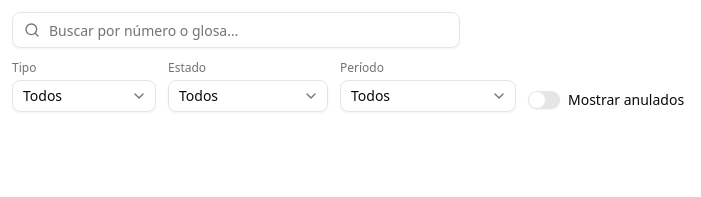
Test: ComprobantesFilters › muestra las opciones de período etiquetadas como "<Mes> <Año>"
The width and height of the screenshot is (701, 197).
Click the dropdown named "Período".
click(428, 96)  # box [340, 80, 516, 112]
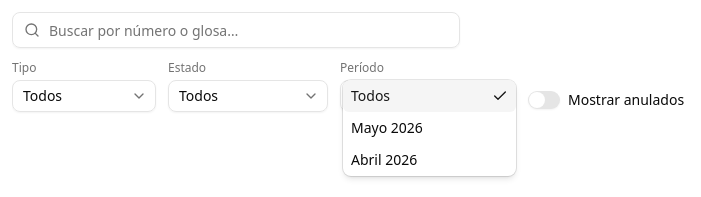
Expected: the text "Mayo 2026" is shown, [351, 118, 423, 138]
Expected: the text "Abril 2026" is shown, [351, 150, 417, 170]
